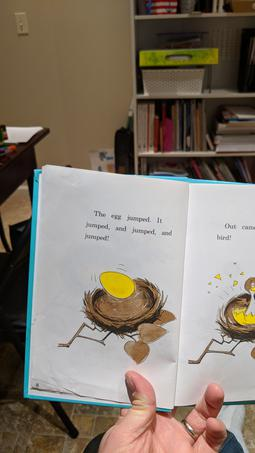text block: (79, 200, 178, 252), (211, 220, 255, 246)
